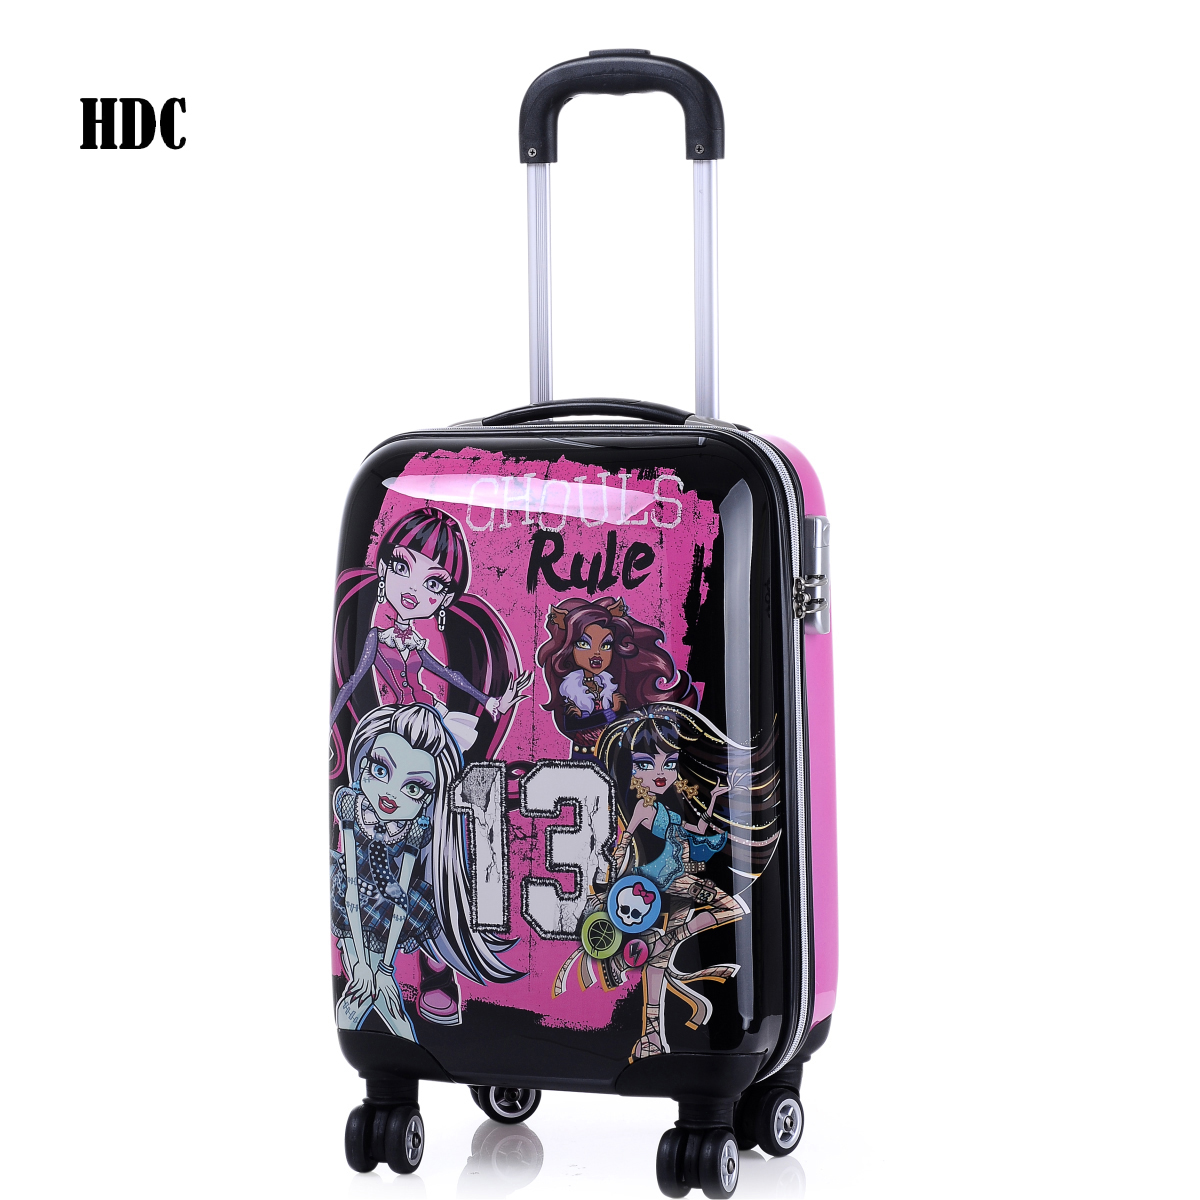luggage: (327, 51, 843, 1197)
